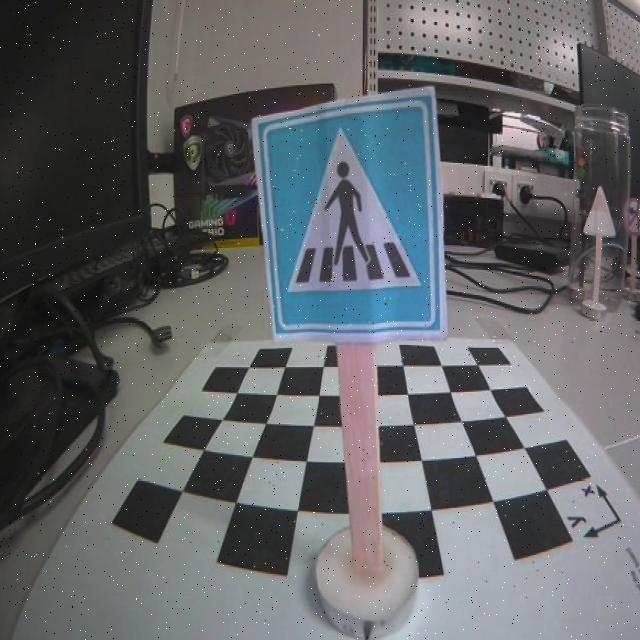Rambu Penyebrangan: (257, 88, 442, 341)
